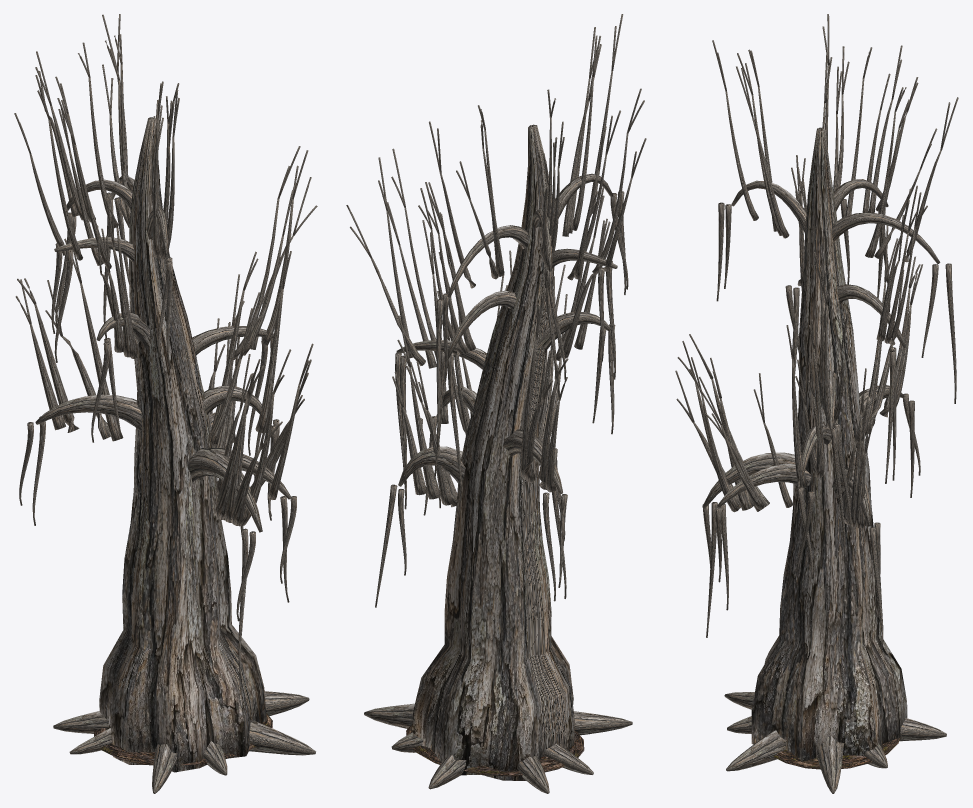
File: weeping-willow-v01.glb
3 renders of one model, left to right at view 1: azimuth 30°, elevation 25°; view 2: azimuth 150°, elevation 25°; view 3: azimuth 270°, elevation 25°, orthographic. The views are drawn at different scales.
Visible parts, largest first — view 1: deeply furrowed winding trunk, massive gnarled bough.005, massive gnarled bough.009, radiating buttress root.007, forked weathered limb.046, forked weathered limb.036, subtle root and soil mound, forked weathered limb.021, forked weathered limb.022, radiating buttress root.005, massive gnarled bough, massive gnarled bough.011 (+29 smaller); view 2: deeply furrowed winding trunk, massive gnarled bough.001, subtle root and soil mound, massive gnarled bough.002, massive gnarled bough.003, radiating buttress root.005, radiating buttress root, massive gnarled bough.007, forked weathered limb.006, massive gnarled bough.005, massive gnarled bough, radiating buttress root.003 (+18 smaller); view 3: deeply furrowed winding trunk, radiating buttress root.007, massive gnarled bough.003, massive gnarled bough.010, massive gnarled bough.009, radiating buttress root, subtle root and soil mound, massive gnarled bough.002, massive gnarled bough.008, forked weathered limb.046, radiating buttress root.002, hanging willow branch.006 (+18 smaller).
Part boxes in pixels (left/top/right/bottom): deeply furrowed winding trunk: left=99, top=117, right=266, bottom=772; massive gnarled bough.005: left=35, top=394, right=141, bottom=431; massive gnarled bough.009: left=187, top=448, right=262, bottom=532; radiating buttress root.007: left=249, top=719, right=315, bottom=755; forked weathered limb.046: left=255, top=289, right=283, bottom=433; forked weathered limb.036: left=214, top=399, right=247, bottom=520; subtle root and soil mound: left=94, top=713, right=272, bottom=765; forked weathered limb.021: left=34, top=304, right=79, bottom=432; forked weathered limb.022: left=80, top=283, right=123, bottom=441; radiating buttress root.005: left=152, top=744, right=177, bottom=793; massive gnarled bough: left=192, top=325, right=273, bottom=355; massive gnarled bough.011: left=203, top=386, right=272, bottom=428; deeply furrowed winding trunk: left=411, top=124, right=574, bottom=780; massive gnarled bough.001: left=398, top=446, right=465, bottom=486; subtle root and soil mound: left=406, top=725, right=584, bottom=776; massive gnarled bough.002: left=447, top=290, right=516, bottom=359; massive gnarled bough.003: left=447, top=225, right=529, bottom=297; radiating buttress root.005: left=573, top=711, right=632, bottom=735; radiating buttress root: left=364, top=703, right=414, bottom=728; massive gnarled bough.007: left=536, top=311, right=610, bottom=353; forked weathered limb.006: left=409, top=367, right=440, bottom=499; massive gnarled bough.005: left=502, top=429, right=562, bottom=493; massive gnarled bough: left=396, top=340, right=486, bottom=369; radiating buttress root.003: left=517, top=755, right=549, bottom=793; deeply furrowed winding trunk: left=751, top=127, right=907, bottom=761; radiating buttress root.007: left=726, top=730, right=786, bottom=771; massive gnarled bough.003: left=831, top=212, right=940, bottom=264; massive gnarled bough.010: left=717, top=463, right=811, bottom=507; massive gnarled bough.009: left=702, top=452, right=797, bottom=508; radiating buttress root: left=816, top=735, right=843, bottom=793; subtle root and soil mound: left=774, top=738, right=899, bottom=769; massive gnarled bough.002: left=837, top=284, right=905, bottom=347; massive gnarled bough.008: left=731, top=180, right=806, bottom=233; forked weathered limb.046: left=792, top=359, right=807, bottom=487; radiating buttress root.002: left=900, top=718, right=946, bottom=741; hanging willow branch.006: left=945, top=263, right=956, bottom=403.
Size of the model in its own units: 4.62 by 10.5 by 4.
2 materials, 2 textured.
